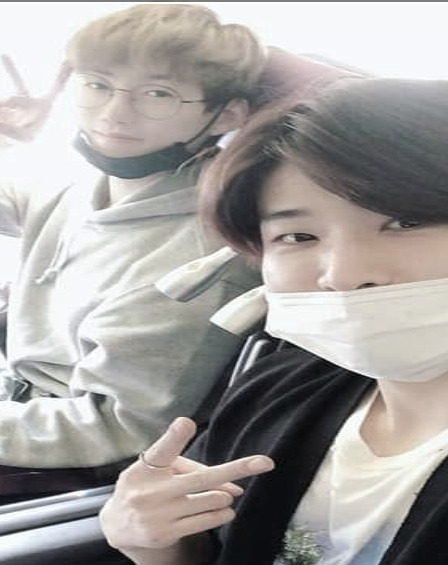mask_weared_incorrect: (228, 79, 448, 386), (56, 5, 260, 180)
